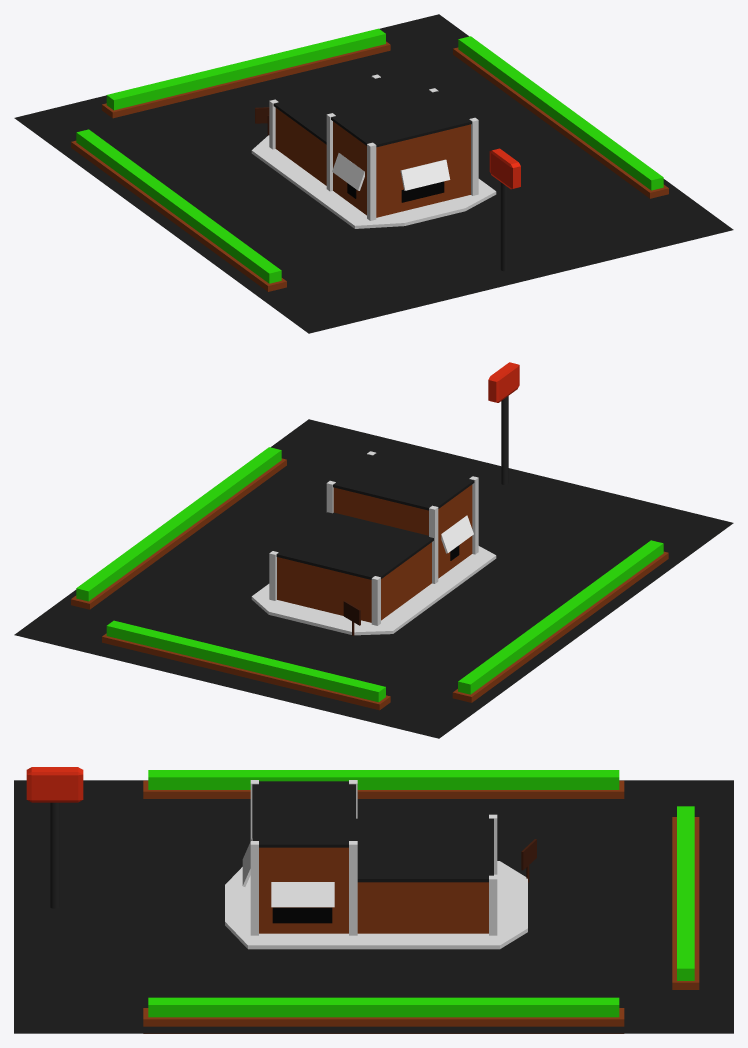
The model's file is DriveThruMenuV2MoreTemp.fbx.
The picture shows the model from 3 angles, top to bottom: view 1: azimuth 30°, elevation 25°; view 2: azimuth 150°, elevation 25°; view 3: azimuth 270°, elevation 25°; orthographic projection. The views are drawn at different scales.
Parts seen in each view (by area): view 1: Ground, Building, Cube.014, Cube.011, Cube.018, Cube.015, Cube.008, Cube.012, Cube.013, Cube.017, Cube.016, Cube.007 (+6 smaller); view 2: Ground, Building, Cube.012, Cube.014, Cube.011, Cube.018, Cube.015, Cube.008, Cube.013, Cube.007, Cube.017, Cube.016 (+3 smaller); view 3: Ground, Building, Cube.015, Cube.012, Cube.018, Cube.008, Cube.011, Cube.016, Cube.017, Cube.014, Cube.007, Cube.013 (+5 smaller).
Part boxes in pixels (box(x1,y1,x2,y2)): Ground: box(14, 14, 733, 333); Building: box(275, 108, 470, 217); Cube.014: box(106, 28, 385, 110); Cube.011: box(331, 90, 473, 147); Cube.018: box(76, 129, 281, 283); Cube.015: box(458, 36, 663, 190); Cube.008: box(251, 135, 496, 228); Cube.012: box(273, 77, 404, 144); Cube.013: box(102, 41, 390, 118); Cube.017: box(71, 140, 286, 291); Cube.016: box(453, 47, 668, 198); Cube.007: box(269, 74, 478, 220); Ground: box(14, 419, 733, 738); Building: box(277, 484, 472, 622); Cube.012: box(274, 512, 433, 579); Cube.014: box(106, 620, 385, 702); Cube.011: box(332, 453, 474, 510); Cube.018: box(458, 540, 663, 694); Cube.015: box(76, 447, 281, 601); Cube.008: box(251, 546, 496, 635); Cube.013: box(102, 633, 390, 710); Cube.007: box(269, 451, 478, 625); Cube.017: box(452, 551, 668, 702); Cube.016: box(71, 458, 286, 609); Ground: box(14, 780, 733, 1033); Building: box(259, 847, 488, 933); Cube.015: box(148, 997, 619, 1017); Cube.012: box(356, 815, 493, 882); Cube.018: box(148, 770, 619, 789); Cube.008: box(225, 861, 527, 949); Cube.011: box(252, 781, 355, 847); Cube.016: box(143, 1008, 624, 1033); Cube.017: box(143, 780, 624, 798); Cube.014: box(677, 806, 694, 980); Cube.007: box(250, 780, 497, 935); Cube.013: box(672, 817, 699, 989).
Bounding box in the file's own units: 140549 × 47123 × 168822.
